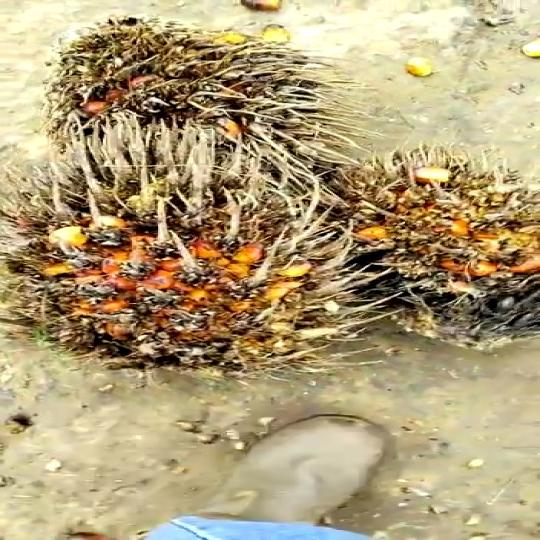terlalu masak: (0, 162, 407, 376), (12, 9, 349, 150), (316, 146, 540, 350)
